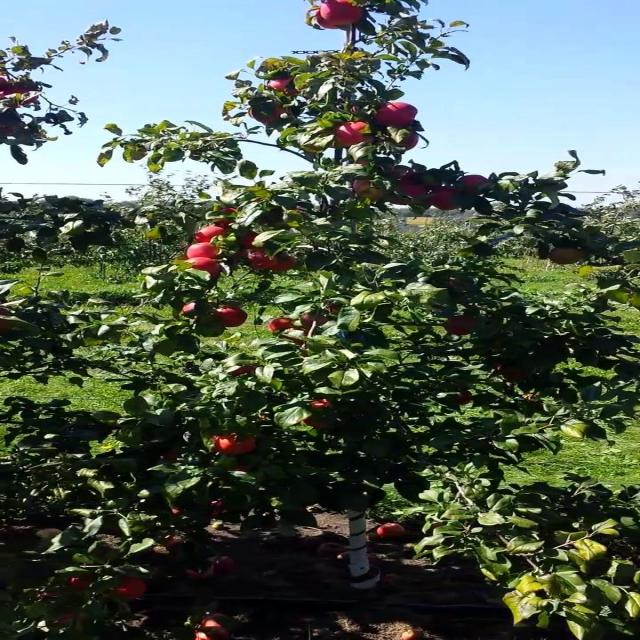apple: (376, 104, 420, 128), (333, 124, 375, 148), (212, 436, 258, 456), (326, 4, 366, 25), (113, 580, 149, 601), (212, 308, 249, 328), (248, 108, 286, 127), (547, 248, 587, 266), (312, 8, 343, 31), (6, 88, 41, 108), (433, 188, 462, 212), (355, 180, 384, 203), (184, 260, 222, 277), (497, 364, 530, 383), (447, 316, 476, 336), (269, 80, 302, 96), (298, 312, 331, 328), (269, 256, 299, 272), (198, 228, 228, 244), (248, 252, 274, 270), (319, 12, 345, 30), (397, 184, 428, 199), (461, 176, 491, 191), (191, 244, 220, 259), (305, 416, 332, 432), (390, 168, 420, 182), (291, 328, 313, 346), (70, 576, 92, 592), (454, 392, 476, 407), (241, 232, 260, 249), (397, 136, 420, 150), (56, 612, 76, 627), (269, 320, 293, 332), (0, 72, 18, 87), (312, 400, 334, 411), (220, 208, 240, 219), (248, 232, 261, 248), (212, 220, 235, 229), (234, 368, 256, 377), (163, 452, 181, 463), (326, 304, 341, 315), (234, 464, 252, 473), (184, 304, 199, 314), (220, 208, 238, 215), (390, 200, 411, 206)
